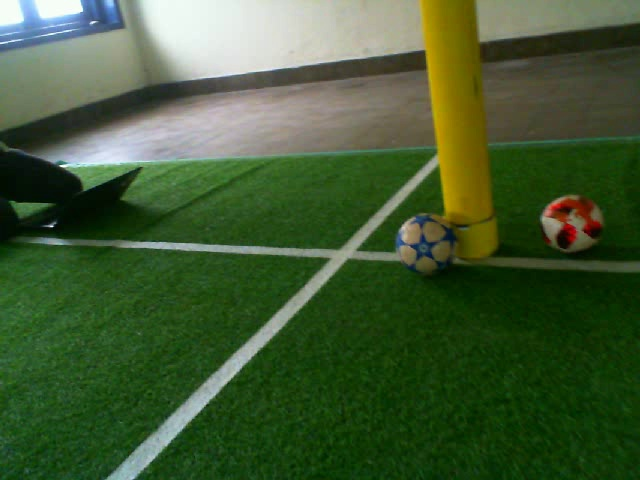ball: (395, 210, 461, 281), (537, 192, 608, 258)
